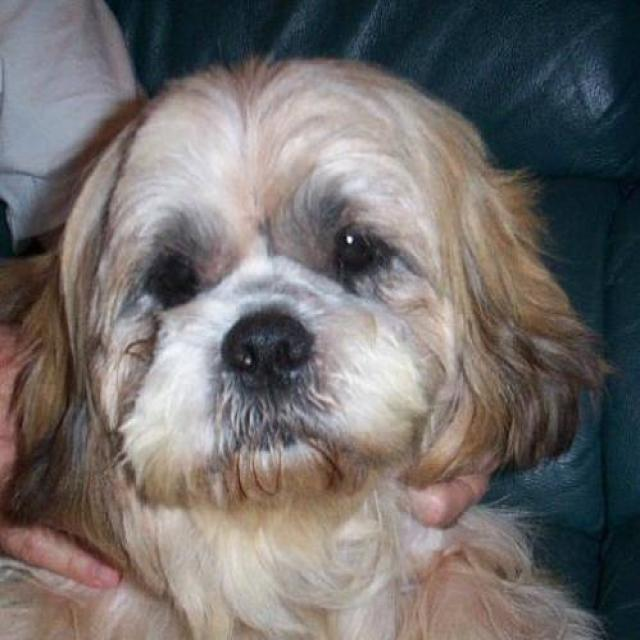dog: (0, 52, 616, 638)
